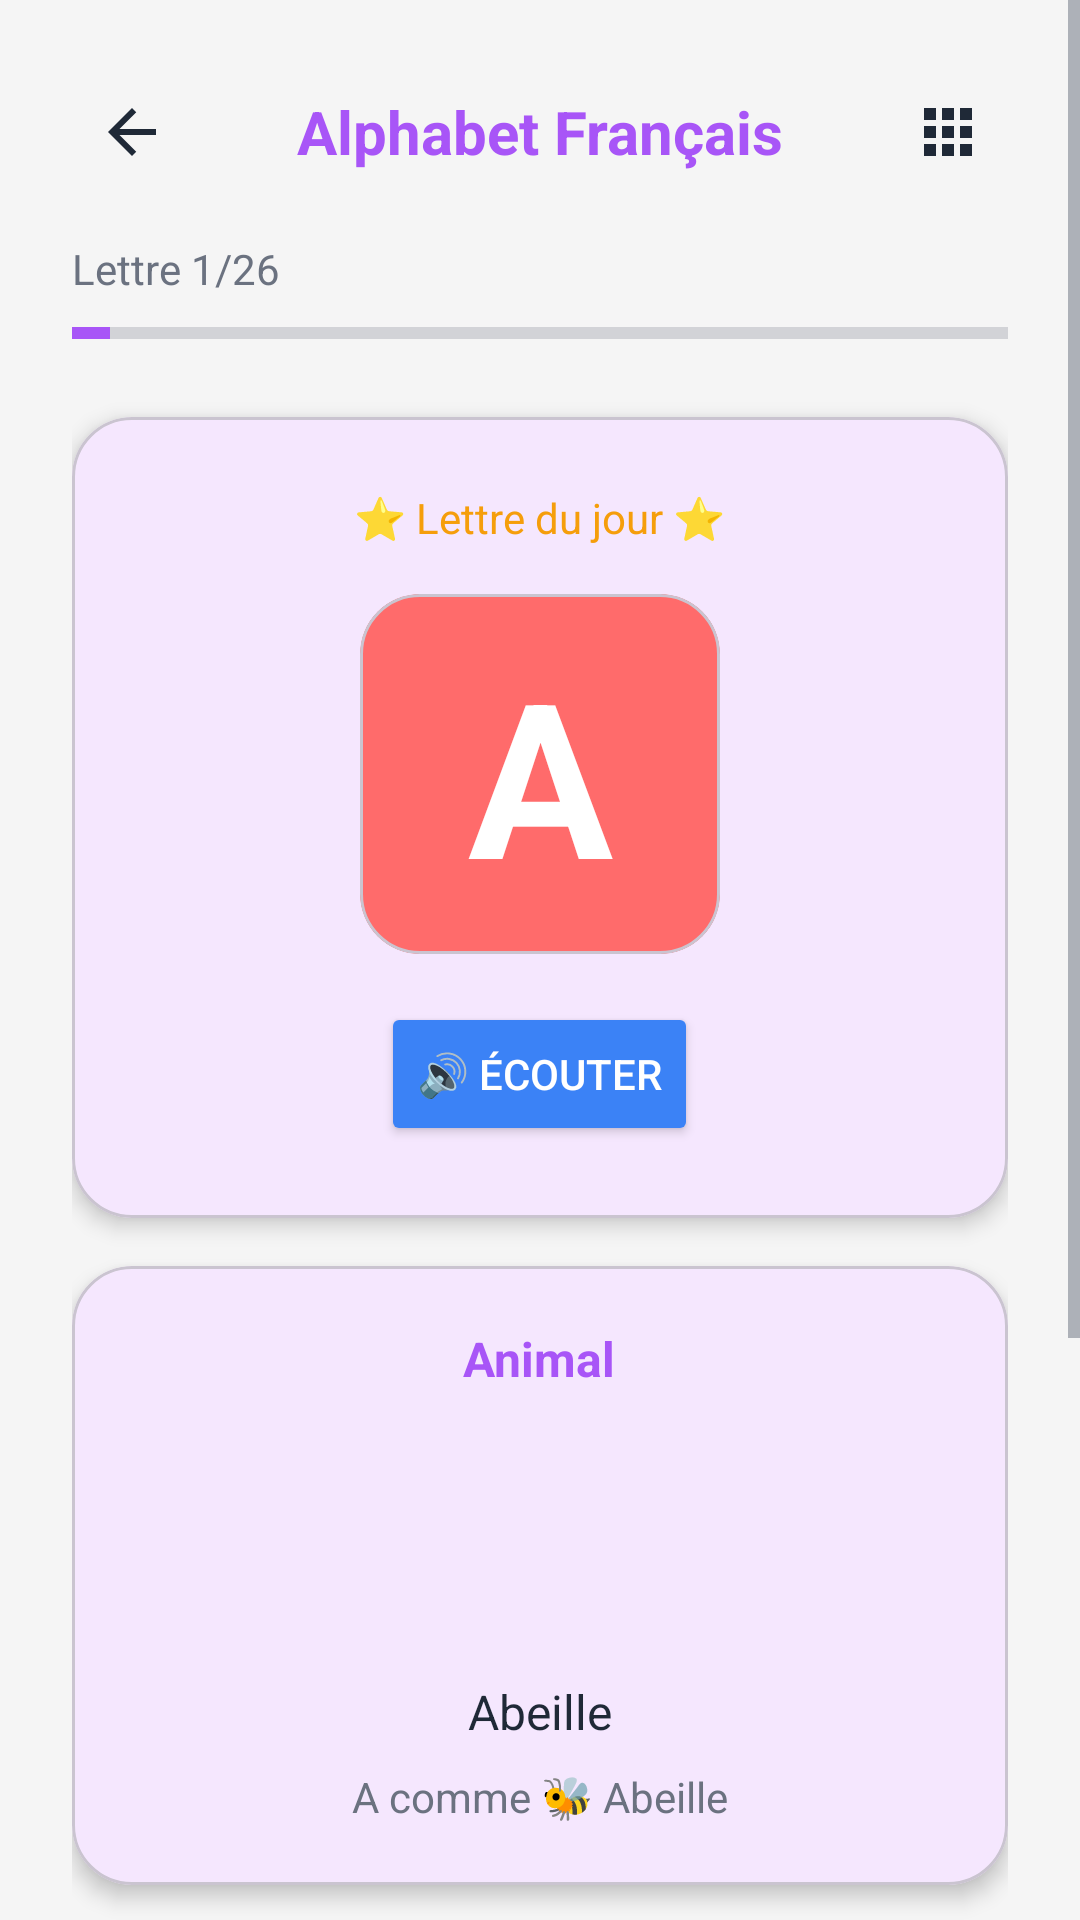

Where to tap for icons on this 1080 x 1920 app screen, as (x,y):
Back: (132,132)
Grid View: (948,132)
